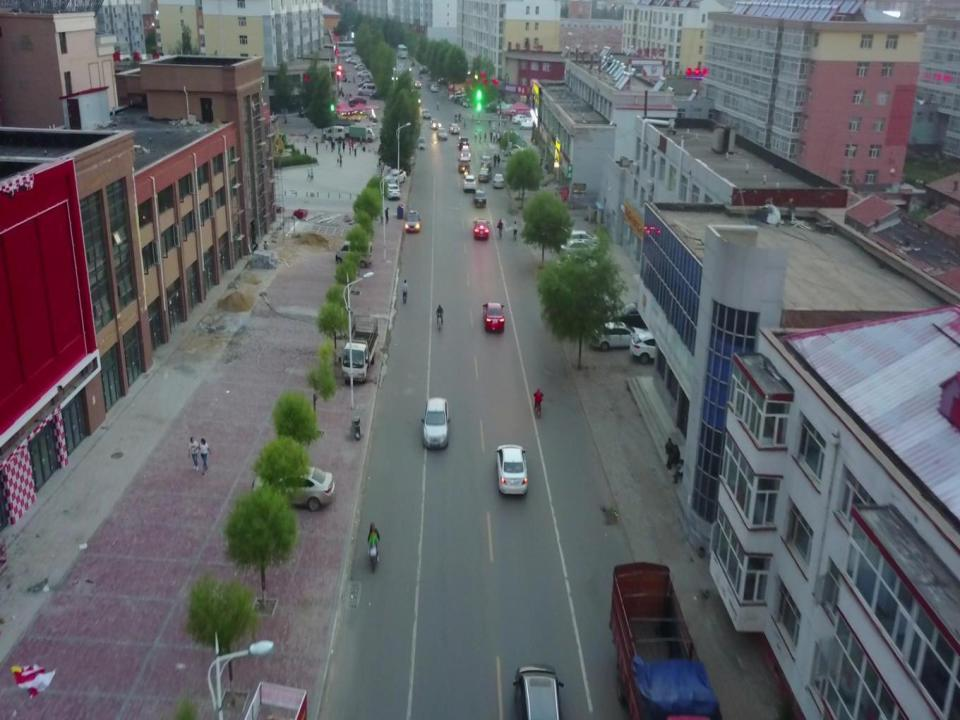bus: (395, 42, 409, 60)
car: (250, 463, 334, 513), (510, 662, 565, 720), (588, 320, 649, 352), (494, 443, 529, 495), (628, 330, 677, 366), (606, 300, 657, 330), (422, 396, 450, 450), (558, 229, 602, 253), (559, 238, 598, 261), (482, 302, 506, 331), (403, 209, 421, 231), (384, 167, 406, 185), (382, 180, 401, 200), (472, 218, 490, 238), (473, 187, 488, 208), (347, 94, 368, 108), (462, 171, 476, 191), (477, 164, 491, 182), (492, 171, 505, 190), (457, 156, 471, 172), (457, 134, 470, 151), (459, 144, 471, 161), (478, 154, 492, 168), (370, 88, 386, 100), (436, 125, 448, 141), (511, 113, 527, 124), (355, 69, 372, 79), (428, 118, 442, 130), (448, 122, 461, 134), (421, 108, 432, 121), (428, 81, 438, 93), (414, 78, 422, 90)
truck: (608, 562, 724, 720), (338, 314, 378, 386), (348, 123, 376, 145)
van: (335, 237, 374, 268), (324, 123, 346, 141), (356, 82, 378, 97), (519, 117, 536, 129)
